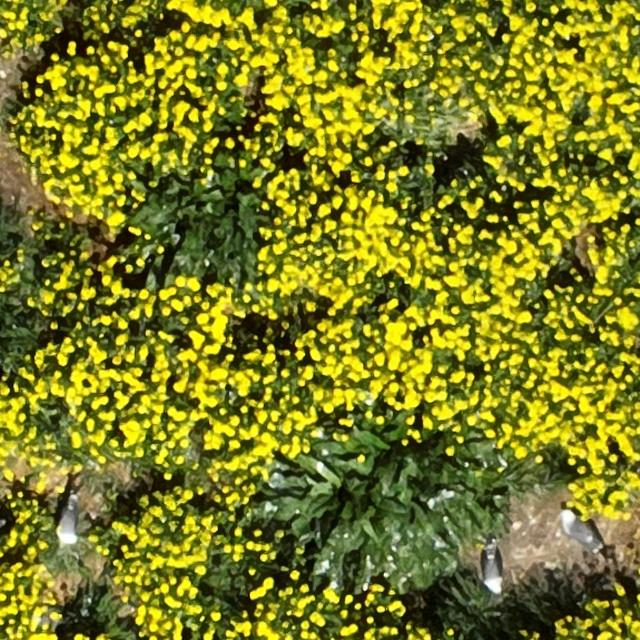umineko: (562, 514, 598, 550), (482, 548, 502, 594), (58, 499, 78, 541)
